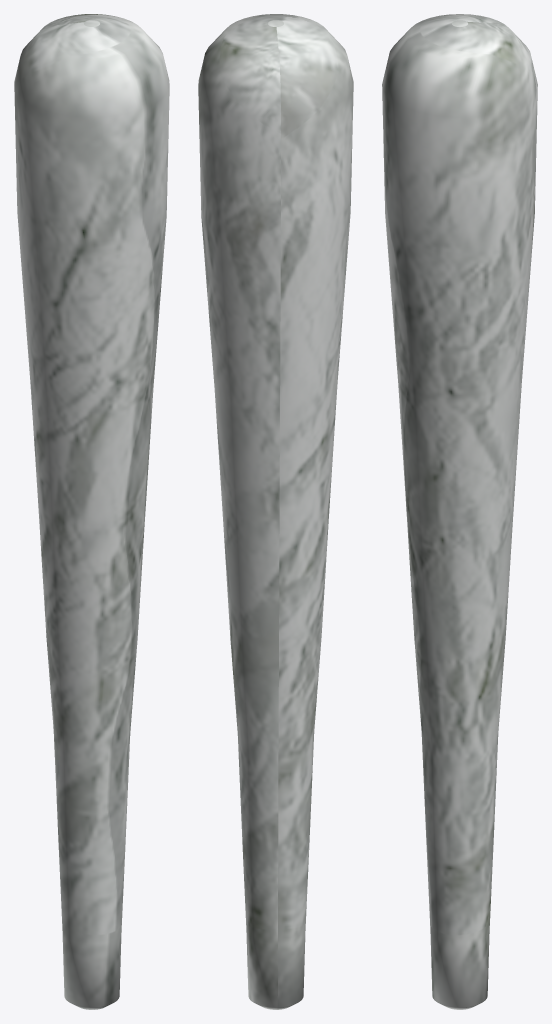
Rendered from Joint.fbx.
The picture shows the model from 3 angles, left to right: view 1: azimuth 30°, elevation 25°; view 2: azimuth 150°, elevation 25°; view 3: azimuth 270°, elevation 25°; orthographic projection.
Visible parts, largest first — view 1: Joint; view 2: Joint; view 3: Joint.
Part boxes in pixels (x1,y1,x2,y2): Joint: [14, 14, 169, 1009]; Joint: [198, 14, 353, 1009]; Joint: [382, 14, 537, 1009].
Size of the model in its own units: 40.68 by 282 by 40.68.
Materials: 1 (1 with a texture image).
